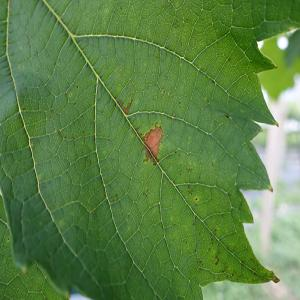Folha: (0, 0, 298, 299)
Fungo: (143, 124, 163, 165), (214, 255, 219, 265), (68, 92, 72, 97), (194, 197, 198, 201), (106, 8, 109, 12), (76, 84, 78, 88)
